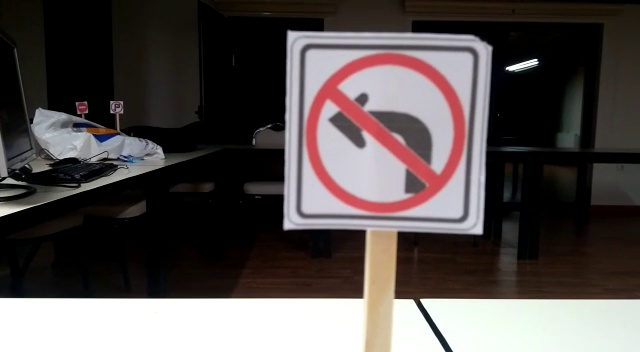sola_donulmez: (286, 41, 481, 228)
